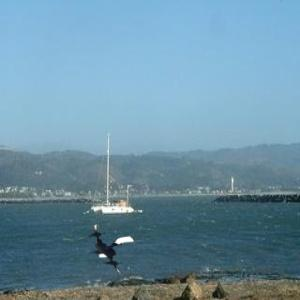drone: (86, 220, 145, 279)
